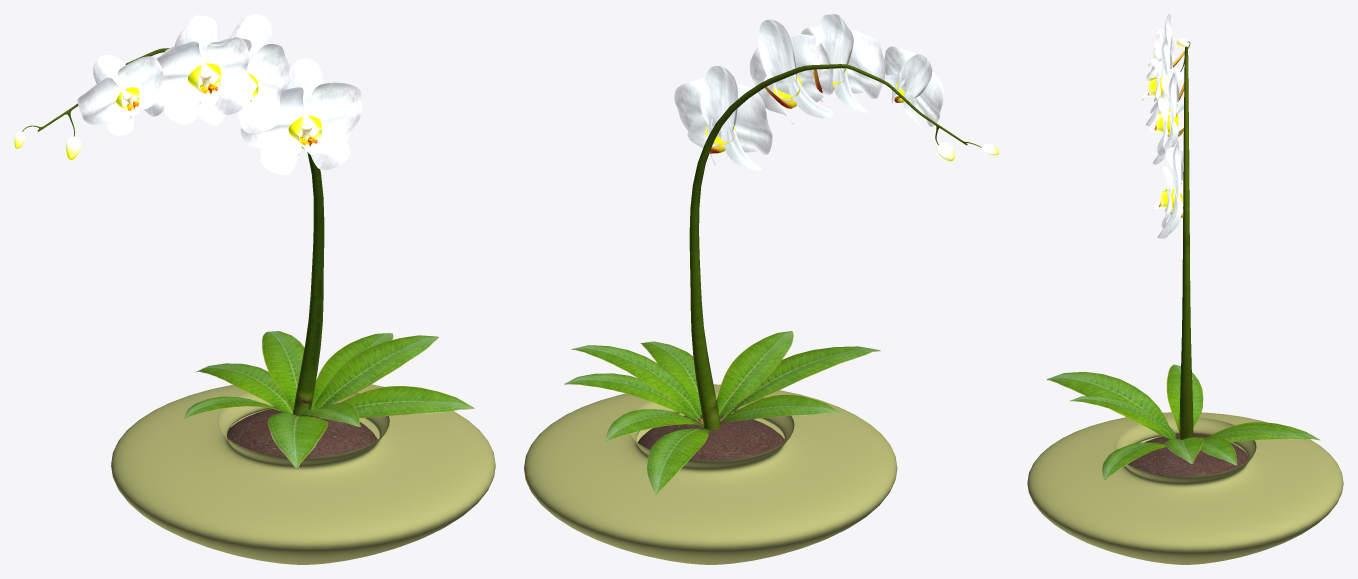
Rendered from mq_orquidea_17.glb.
3 views of the same model, side by side, from view 1: azimuth 30°, elevation 25°; view 2: azimuth 150°, elevation 25°; view 3: azimuth 270°, elevation 25° (orthographic). The views are drawn at different scales.
Parts seen in each view (by area): view 1: Object_3, Object_6, Object_5, Object_7, Object_2, Object_4; view 2: Object_3, Object_5, Object_6, Object_7, Object_2, Object_4; view 3: Object_3, Object_5, Object_2, Object_7, Object_6, Object_4.
Boxes of the visible parts, box(x1,y1,x2,y2) form: Object_3: box(111, 379, 495, 564); Object_6: box(14, 37, 361, 159); Object_5: box(184, 331, 474, 467); Object_7: box(175, 14, 350, 174); Object_2: box(22, 48, 324, 416); Object_4: box(227, 408, 377, 457); Object_3: box(524, 384, 897, 564); Object_5: box(564, 331, 880, 494); Object_6: box(674, 26, 998, 161); Object_7: box(687, 14, 853, 170); Object_2: box(689, 64, 981, 430); Object_4: box(637, 414, 784, 460); Object_3: box(1027, 412, 1343, 564); Object_5: box(1046, 364, 1320, 480); Object_2: box(1179, 41, 1193, 439); Object_7: box(1149, 35, 1183, 238); Object_6: box(1142, 14, 1188, 228); Object_4: box(1128, 433, 1248, 476).
Bounding box in the file's own units: 1.55 × 1.81 × 1.12.
Materials: 5 (4 with a texture image).
